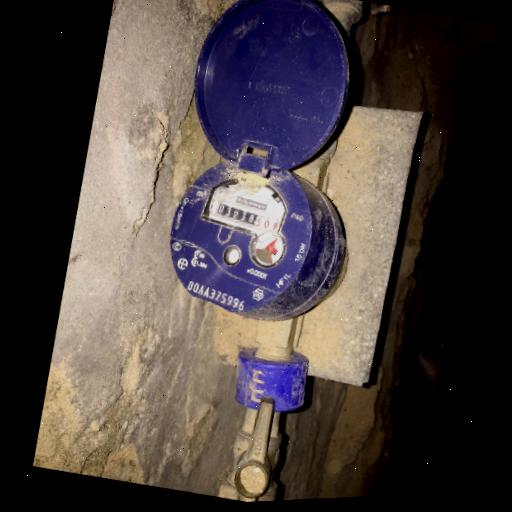0: (260, 216, 272, 231), (216, 202, 226, 215)
2: (230, 207, 241, 220)
3: (222, 204, 233, 217), (238, 209, 249, 222)
5: (253, 214, 264, 228)
8: (246, 211, 256, 224)
9: (268, 218, 280, 233)
border_water_meter_number: (207, 194, 282, 235)
